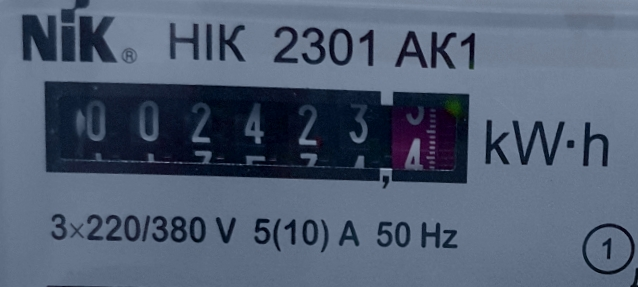0: (81, 95, 110, 144), (134, 98, 161, 143)
2: (186, 98, 214, 145), (294, 102, 319, 148)
3: (345, 100, 370, 146), (403, 102, 425, 126)
4: (241, 100, 265, 146), (400, 133, 426, 172)
screen: (29, 65, 483, 201)
